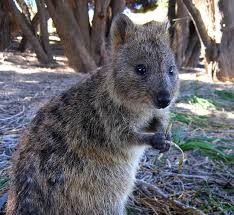quokka: (4, 12, 190, 215)
